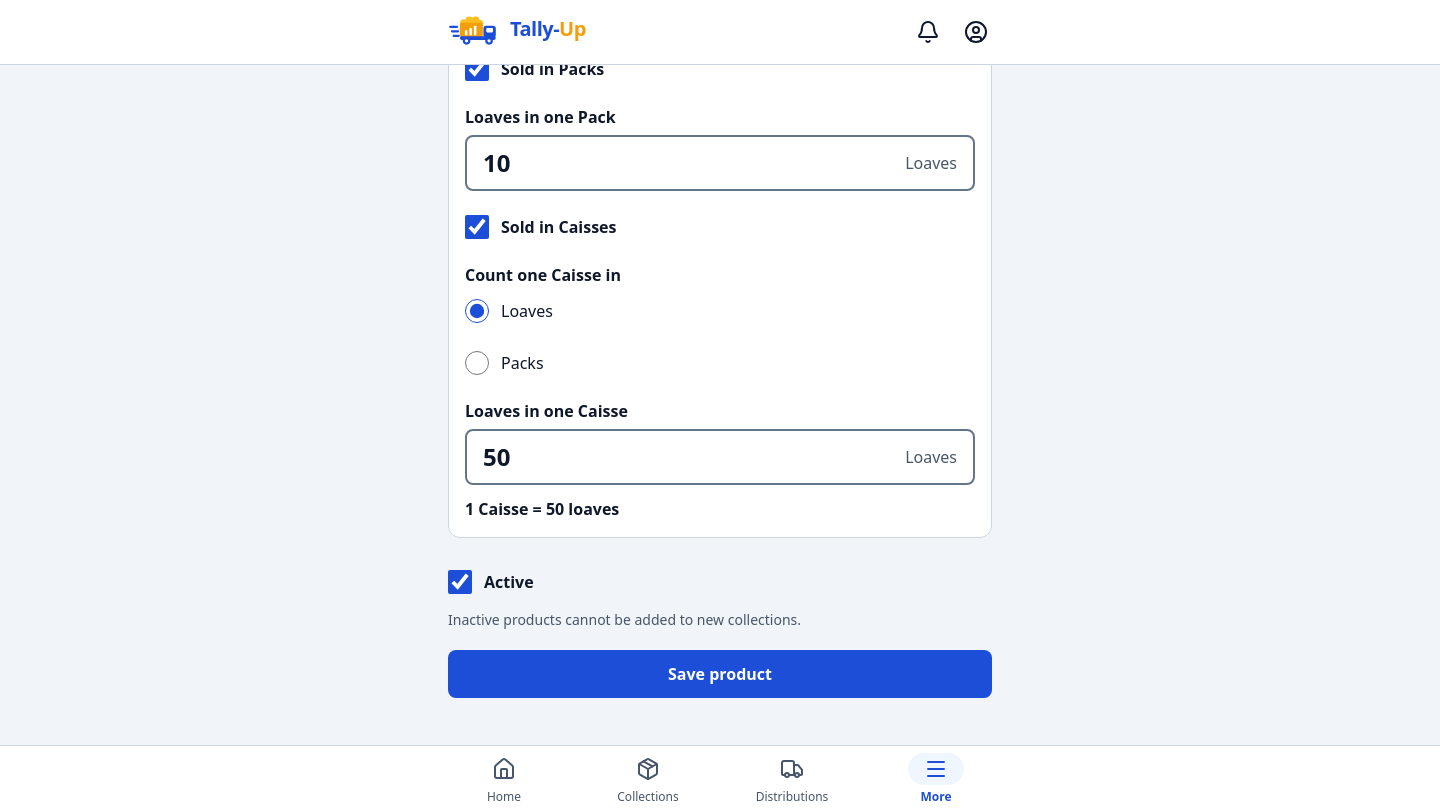
Test: Edit product › fills the form, and PRD-01: deactivating keeps the product in the list as Inactive
The width and height of the screenshot is (1440, 810).
(page scrolled)
Check: the checkbox labelled "Sold in Packs" is checked, box top-left (465, 57), bottom-right (489, 81)
Check: the field labelled "Loaves in one Pack" holds "10", box top-left (467, 147), bottom-right (889, 179)
Click the checkbox labelled "Active" at (460, 582), box top-left (448, 570), bottom-right (472, 594)
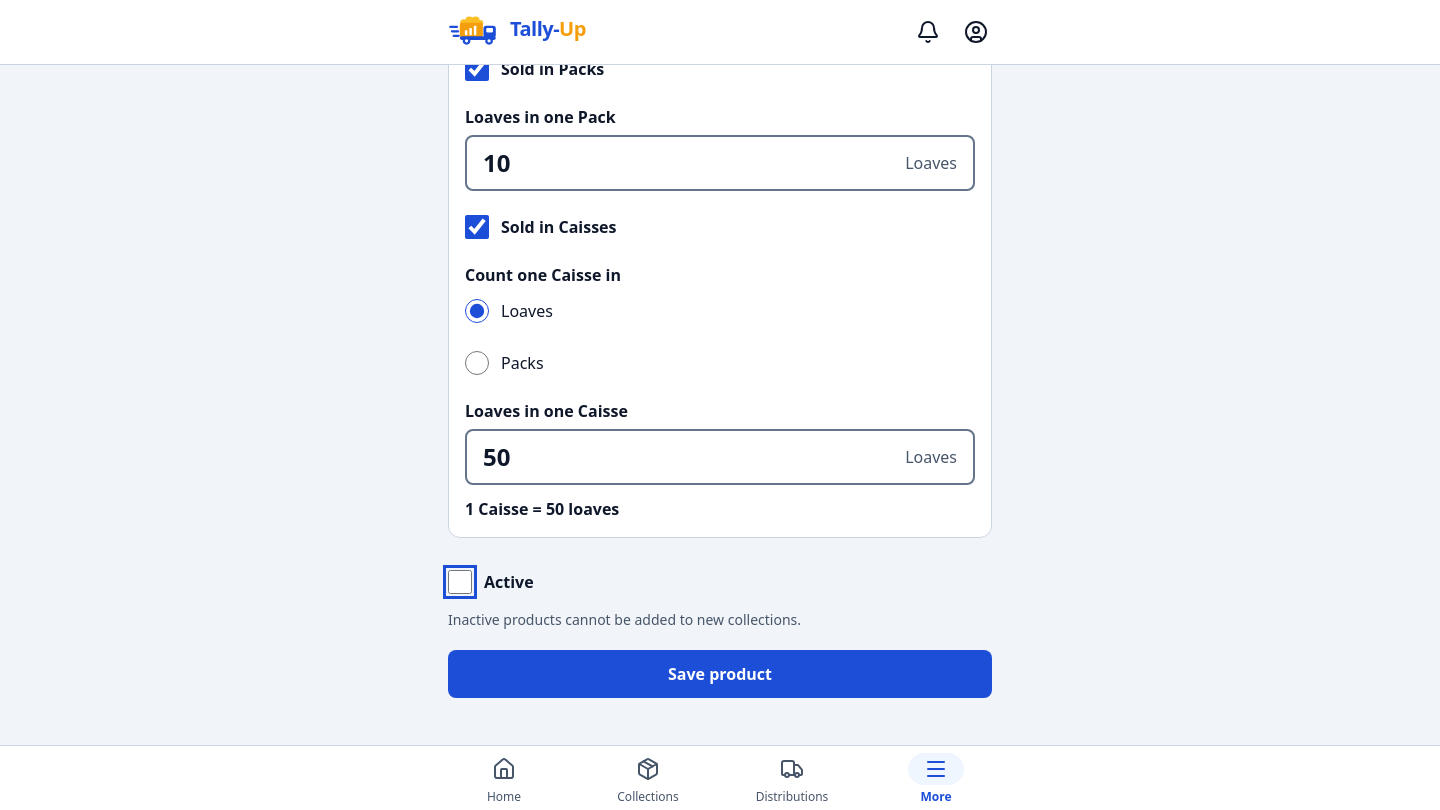
Click the checkbox labelled "Sold in Caisses" at (477, 227), box top-left (465, 215), bottom-right (489, 239)
(page scrolled)
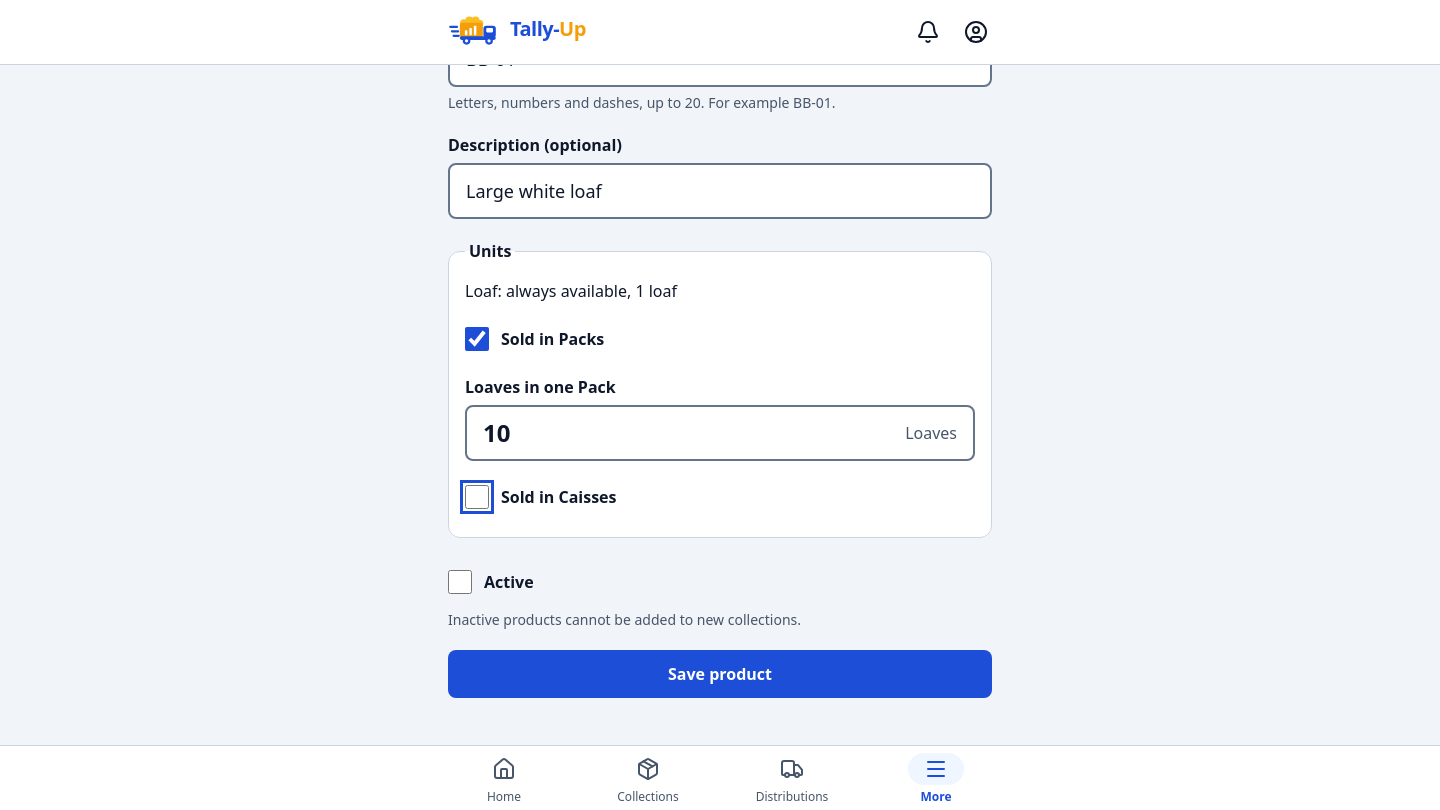
Click the button "Save product" at (720, 674), box top-left (448, 650), bottom-right (992, 698)
(page scrolled)
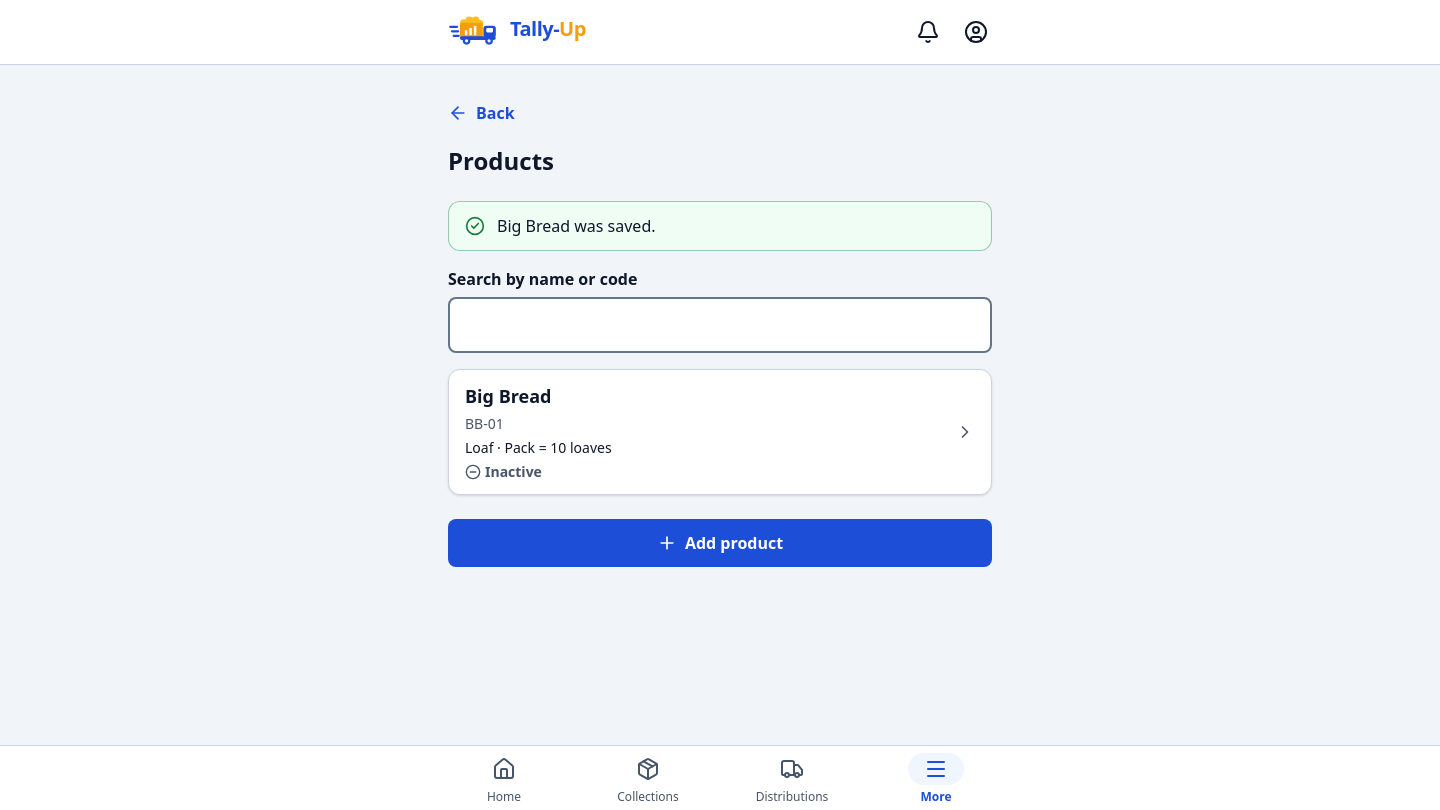
Check: the link "Big Bread BB-01 Loaf · Pack = 10 loaves Inactive" is shown, box top-left (448, 369), bottom-right (992, 495)
Check: the text "Caisse" is gone
